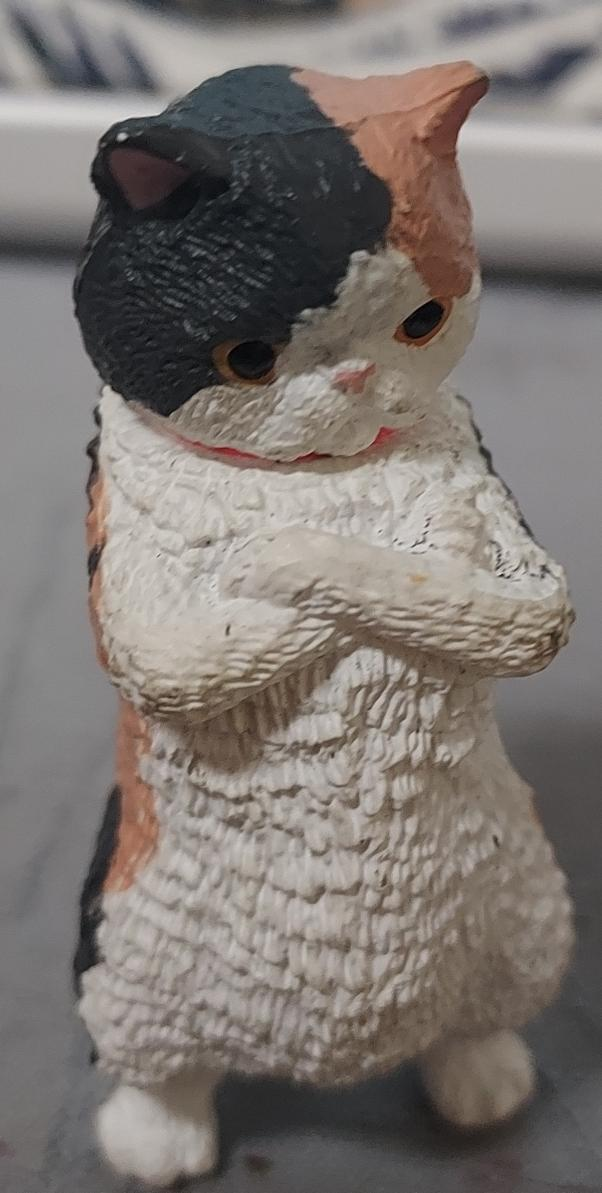cat: (0, 1, 602, 1193)
